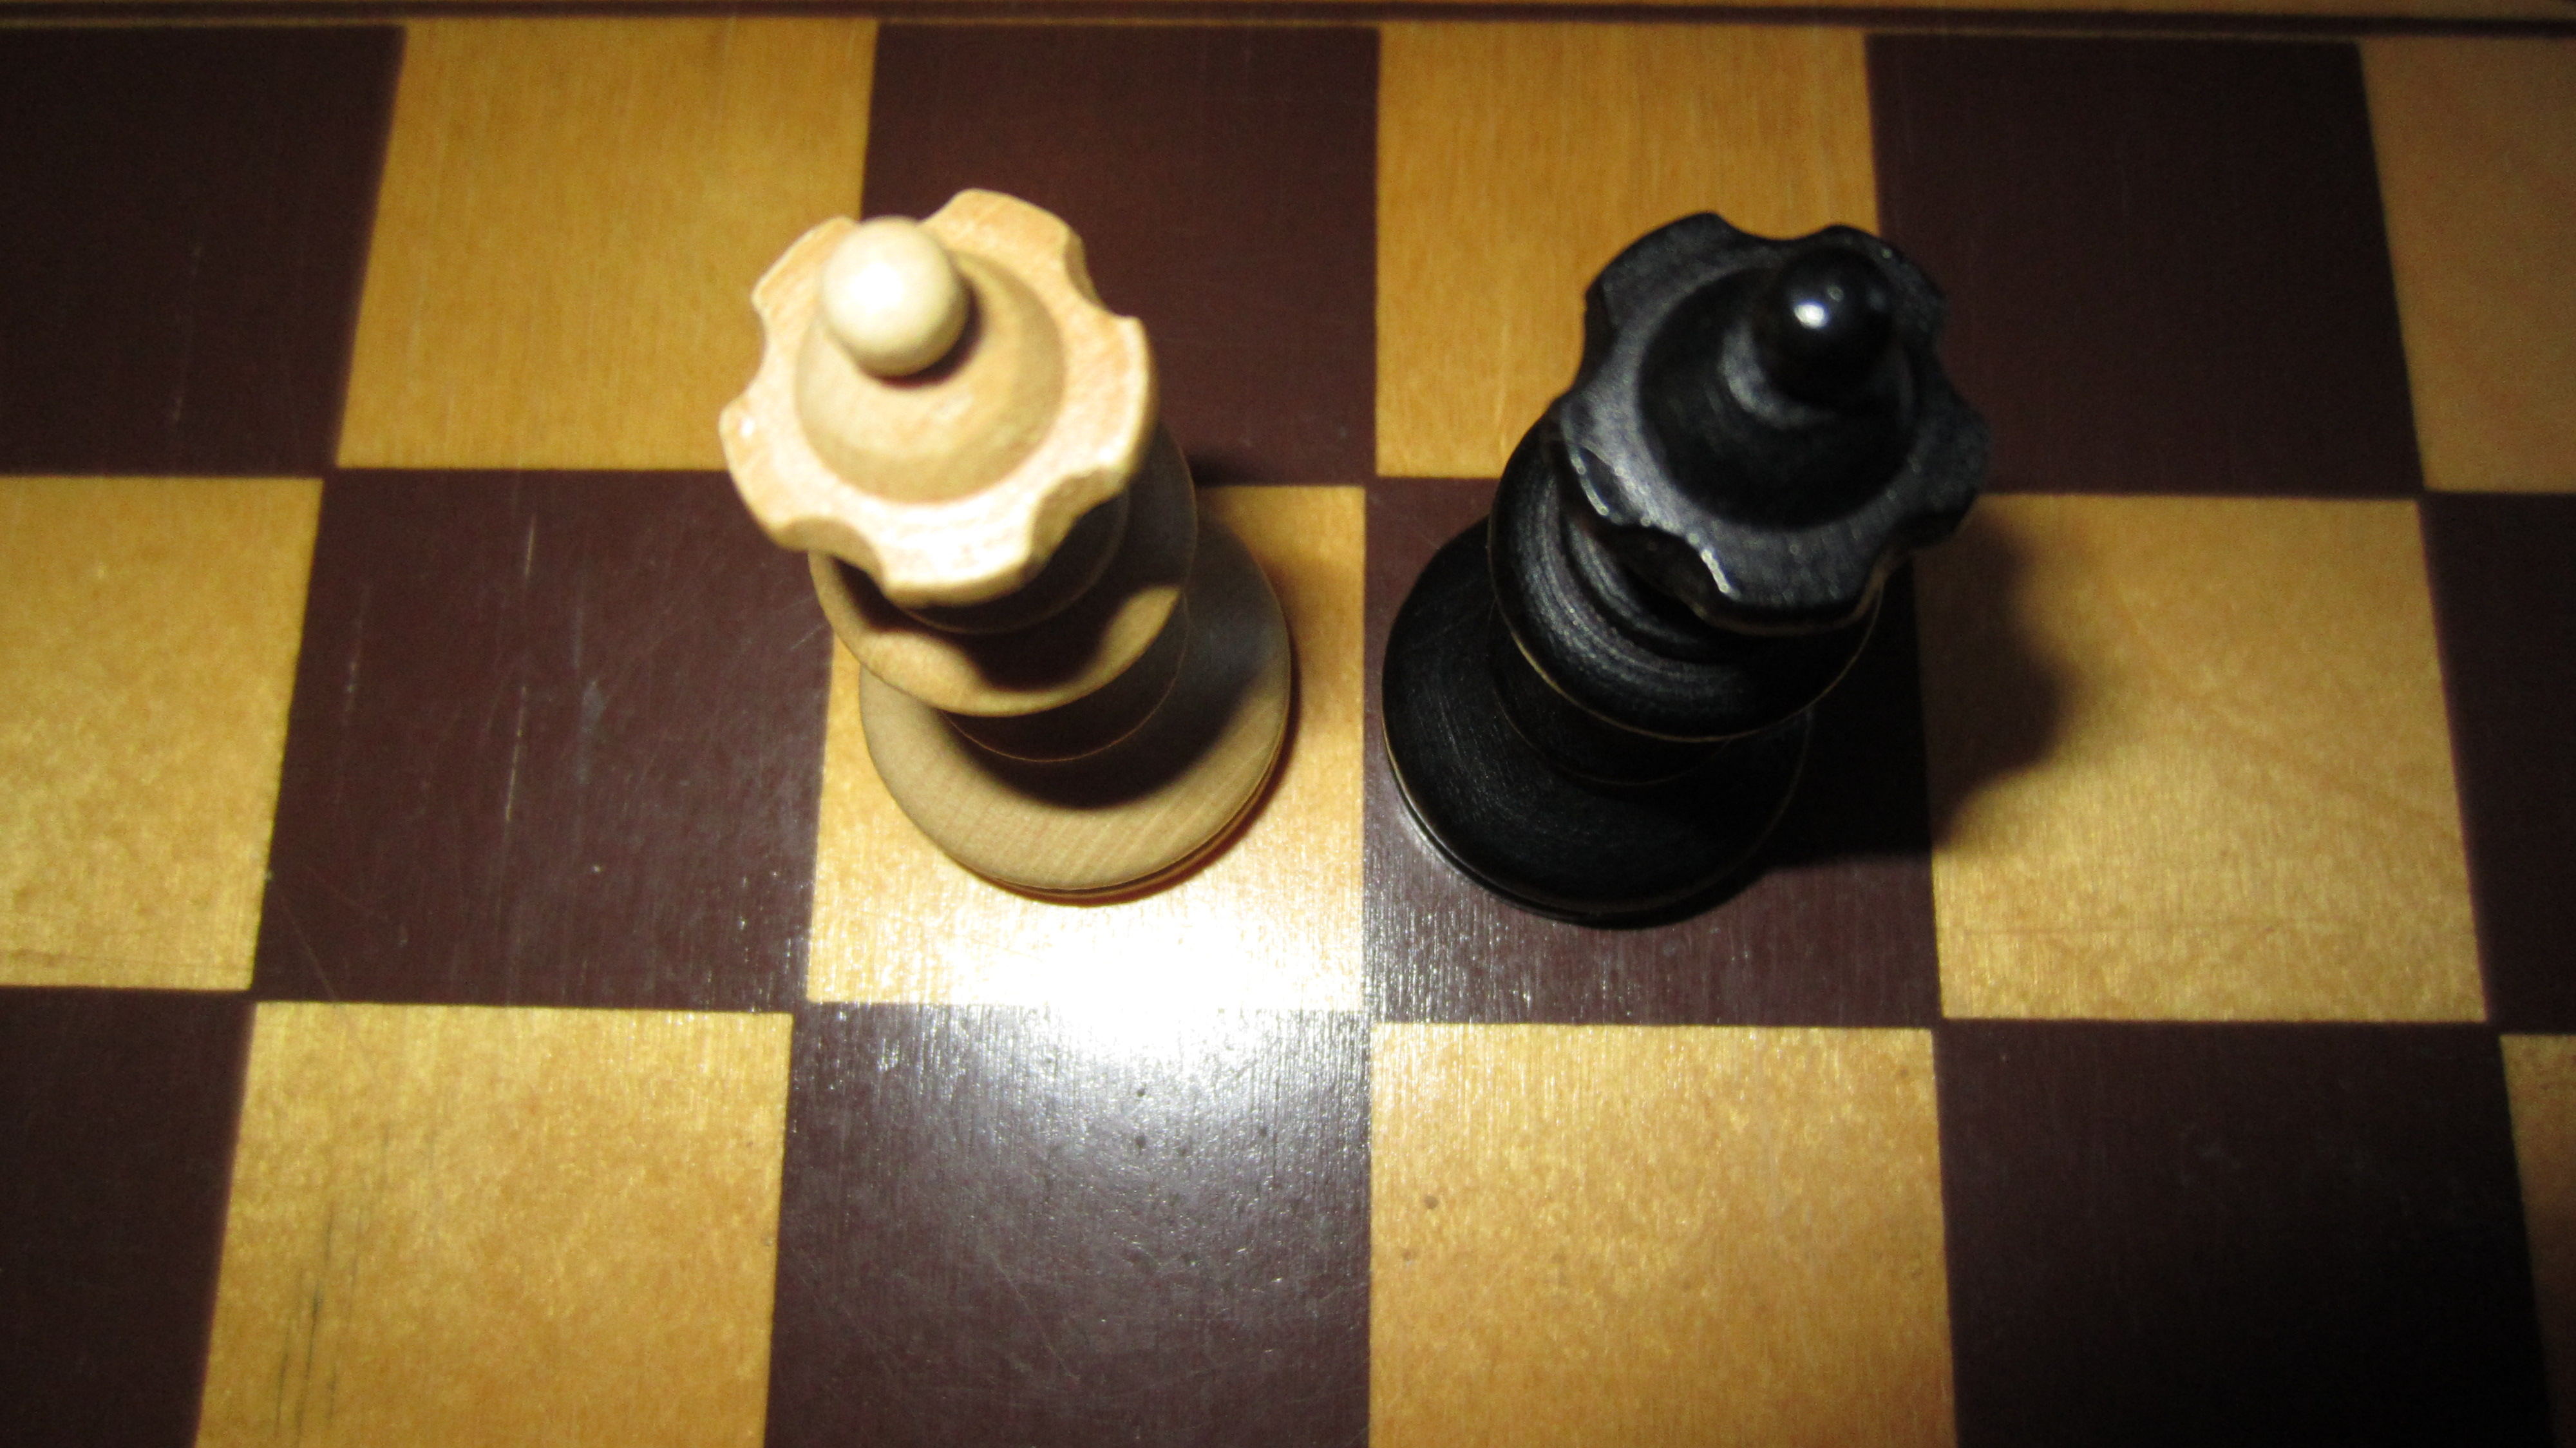black-queen: (1378, 205, 2001, 933)
white-queen: (713, 184, 1304, 910)
